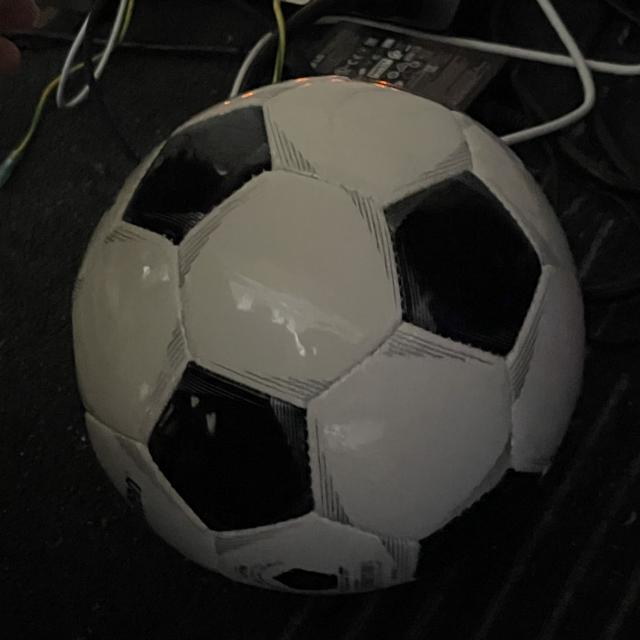ball: (63, 74, 584, 596)
